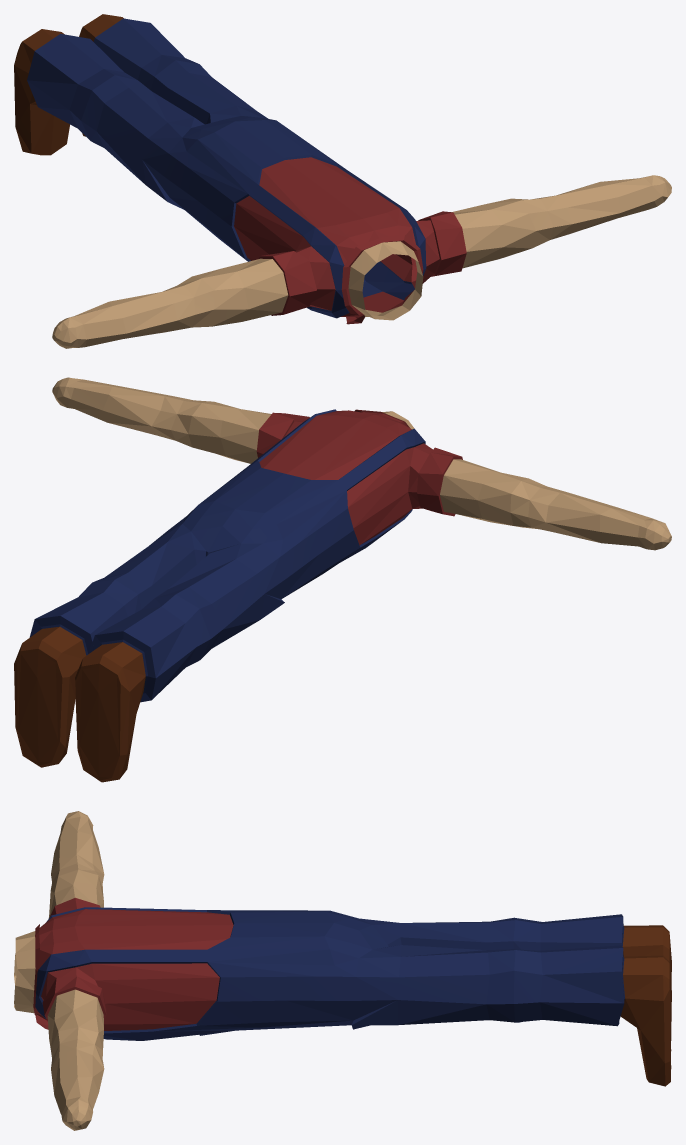
The model's file is Suspenders.glb.
The picture shows the model from 3 angles, top to bottom: view 1: azimuth 30°, elevation 25°; view 2: azimuth 150°, elevation 25°; view 3: azimuth 270°, elevation 25°; orthographic projection.
Visible parts, largest first — view 1: Suspenders; view 2: Suspenders; view 3: Suspenders.
Boxes of the visible parts, x1,y1,x2,y2 form: Suspenders: (14,14,671,348); Suspenders: (14,377,671,782); Suspenders: (14,811,671,1130).
Size of the model in its own units: 1.21 by 0.2747 by 1.11.
Materials: 1 (1 with a texture image).
